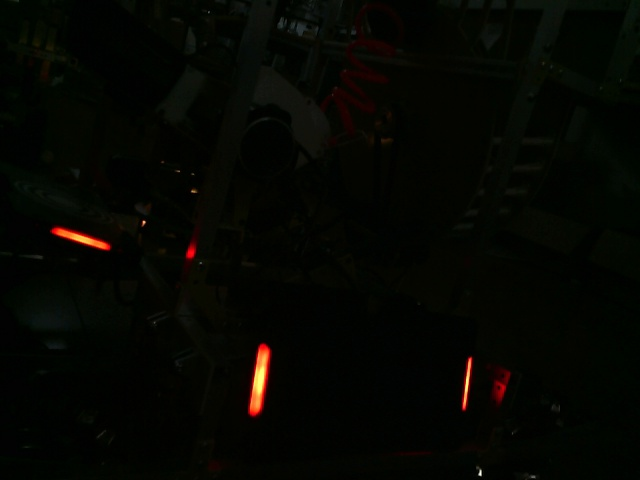lamp: (245, 340, 275, 414), (460, 354, 476, 412)
